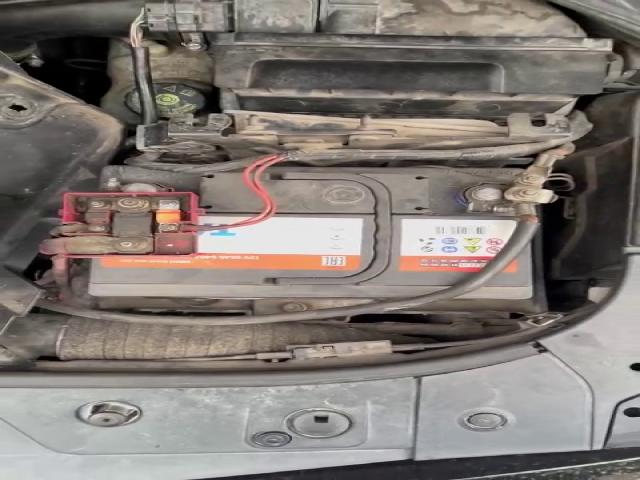accumulator: (42, 165, 557, 299)
